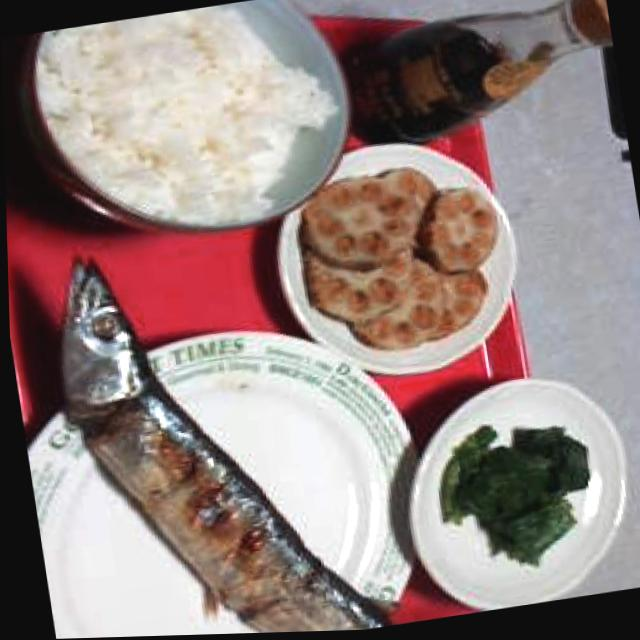熟制海鲜: (6, 242, 398, 640)
米饭主食: (0, 0, 381, 302)
